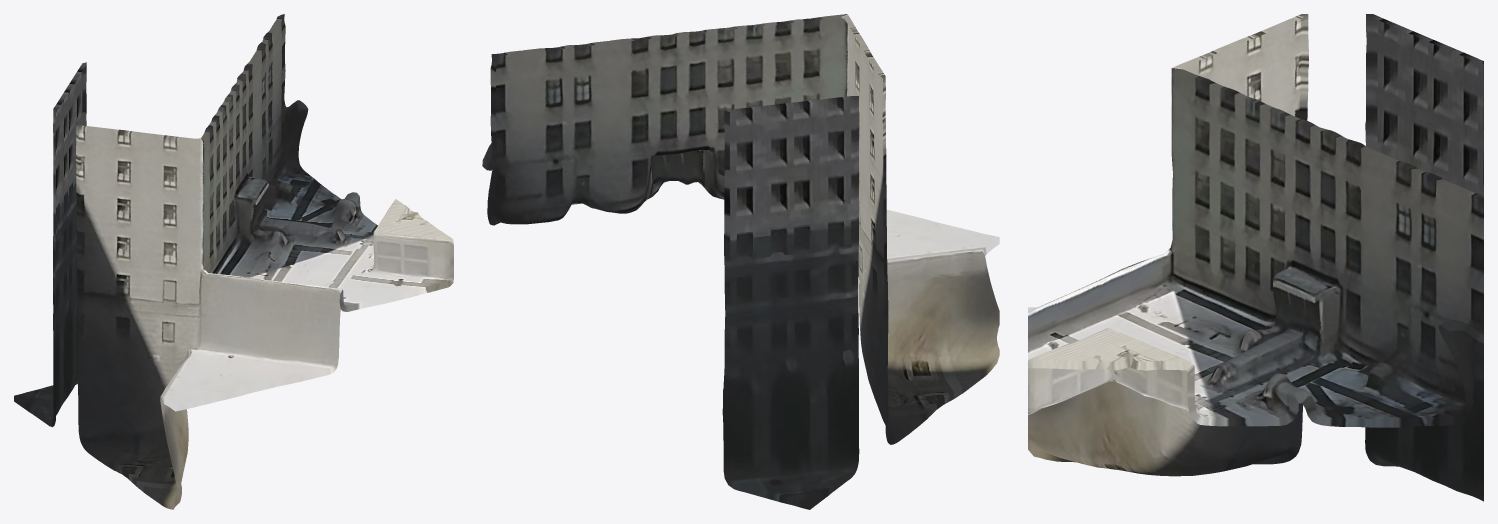
File: z20-167782-405233-h0-yup-uvflip-v3-world.glb
3 views of the same model, side by side, from view 1: azimuth 30°, elevation 25°; view 2: azimuth 150°, elevation 25°; view 3: azimuth 270°, elevation 25° (orthographic). The views are drawn at different scales.
Bounding box in the file's own units: 30.2 × 33.32 × 30.32.
1 material, 1 textured.
